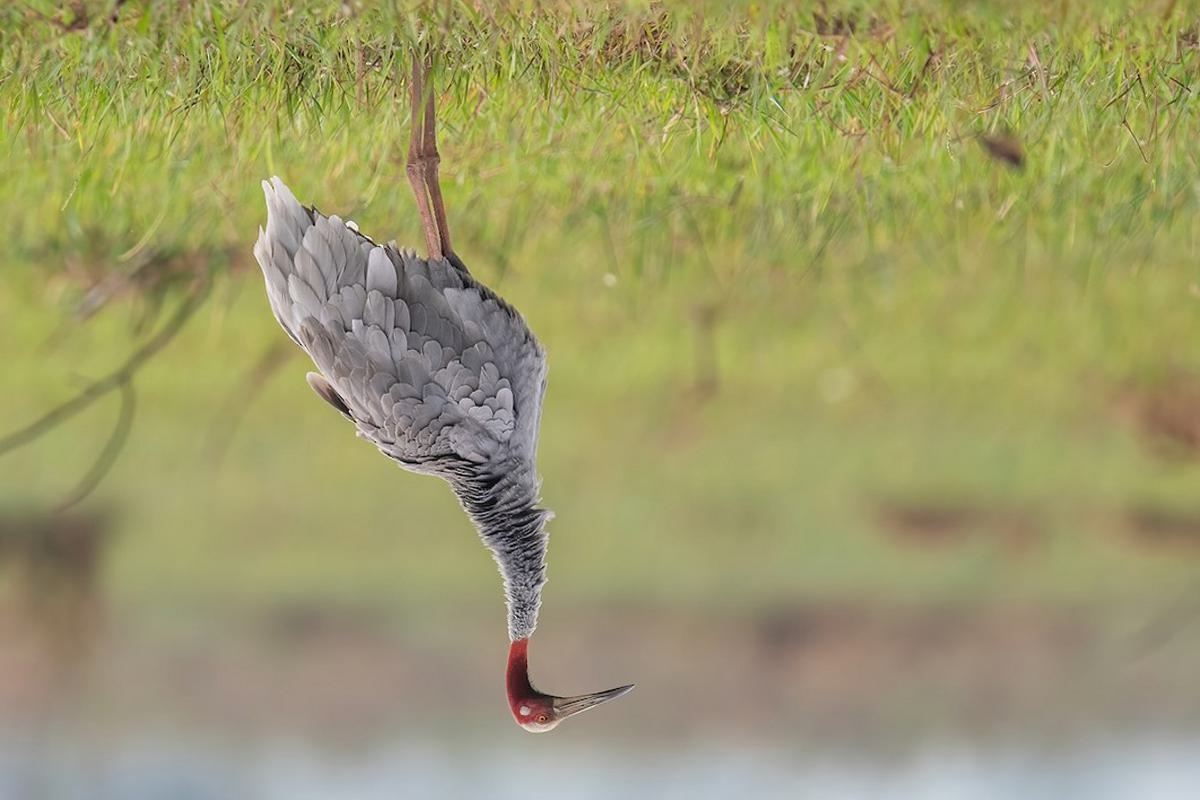crane: (233, 36, 641, 750)
